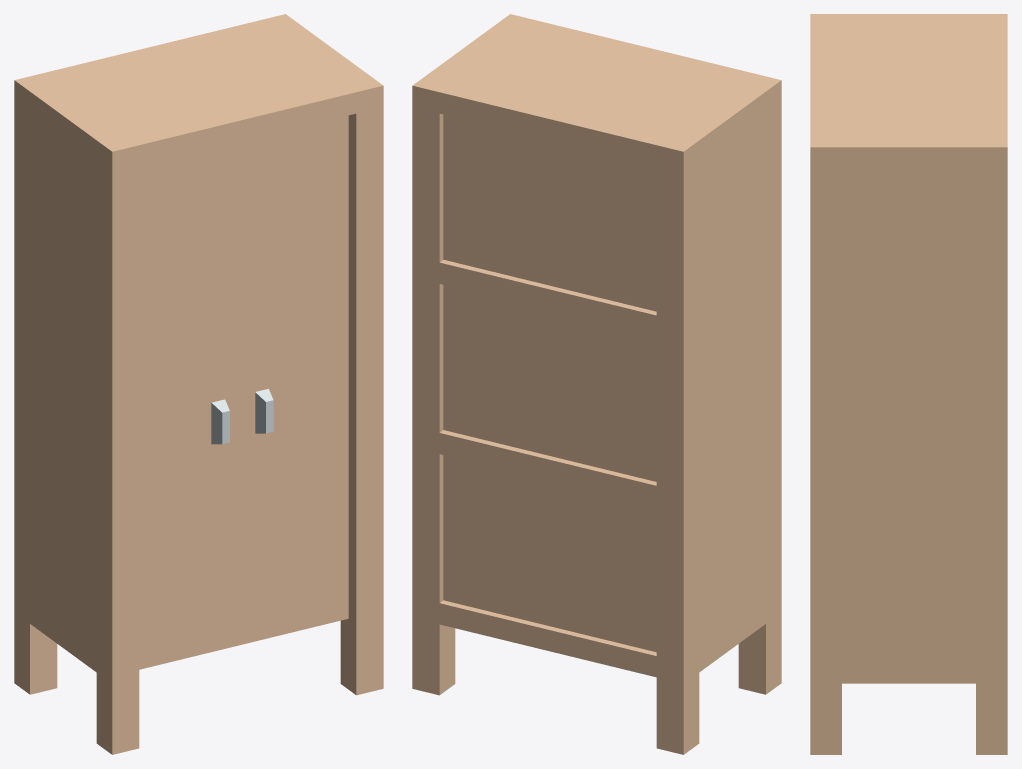
File: bookcaseClosedDoors.glb
The picture shows the model from 3 angles, left to right: view 1: azimuth 30°, elevation 25°; view 2: azimuth 150°, elevation 25°; view 3: azimuth 270°, elevation 25°; orthographic projection.
Visible parts, largest first — view 1: bookcaseClosedDoors; view 2: bookcaseClosedDoors; view 3: bookcaseClosedDoors.
Part boxes in pixels (bbox=[...]): bookcaseClosedDoors: bbox=[14, 14, 383, 754]; bookcaseClosedDoors: bbox=[412, 14, 781, 754]; bookcaseClosedDoors: bbox=[810, 14, 1007, 754].
Size of the model in its own units: 0.4 by 0.85 by 0.25.
